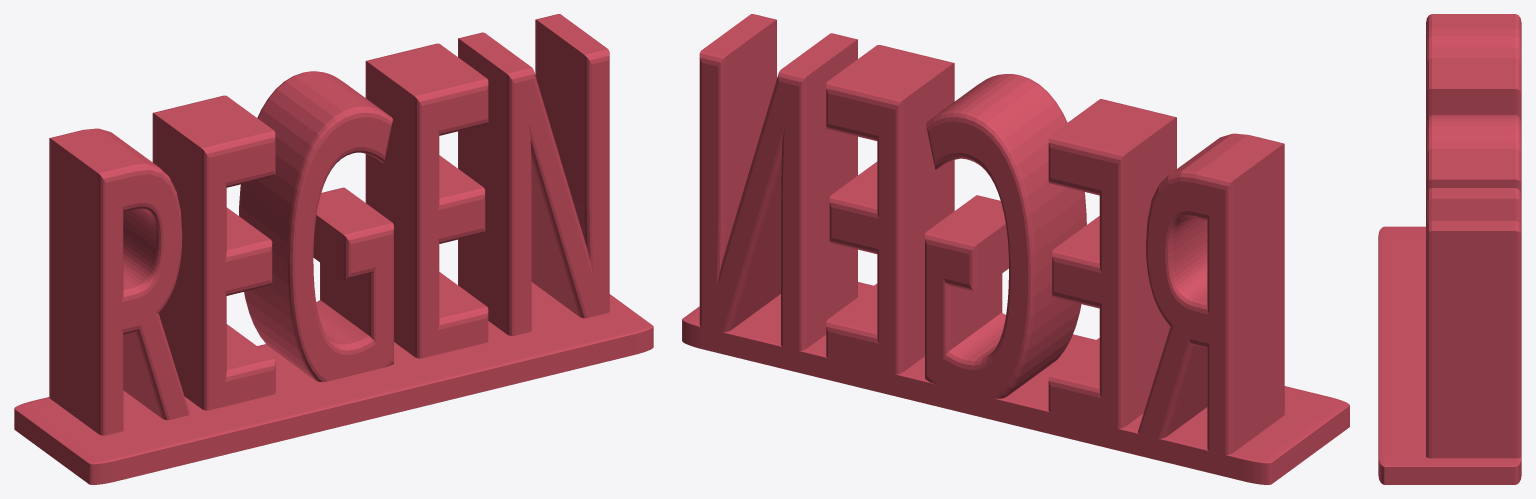
The model's file is regen (1).glb.
The picture shows the model from 3 angles, left to right: view 1: azimuth 30°, elevation 25°; view 2: azimuth 150°, elevation 25°; view 3: azimuth 270°, elevation 25°; orthographic projection. The views are drawn at different scales.
Visible parts, largest first — view 1: Mesh_Mesh_head_geo.001_lambert2SG.001; view 2: Mesh_Mesh_head_geo.001_lambert2SG.001; view 3: Mesh_Mesh_head_geo.001_lambert2SG.001.
Boxes of the visible parts, x1=… form: Mesh_Mesh_head_geo.001_lambert2SG.001: x1=14, y1=14, x2=653, y2=484; Mesh_Mesh_head_geo.001_lambert2SG.001: x1=682, y1=14, x2=1349, y2=484; Mesh_Mesh_head_geo.001_lambert2SG.001: x1=1378, y1=14, x2=1521, y2=484.
Size of the model in its own units: 62 by 30.1 by 15.6.
